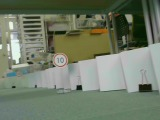speed_10: (51, 53, 69, 69)
